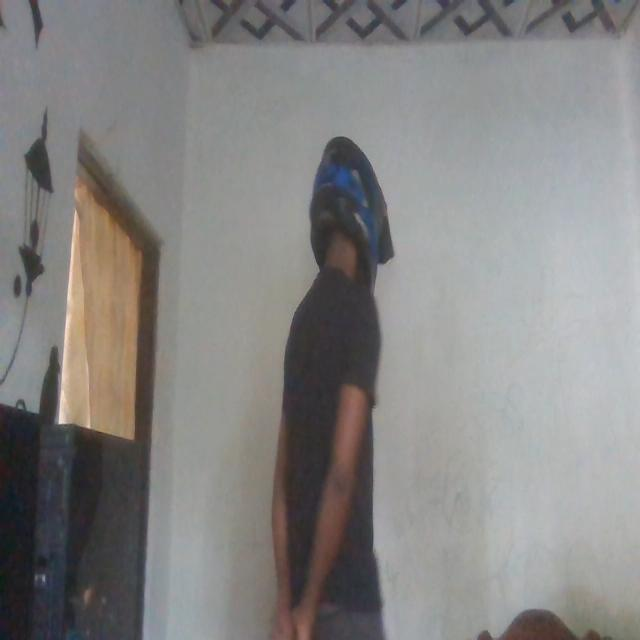Helmet_Wearer: (298, 139, 392, 296)
Person: (254, 126, 402, 640)
